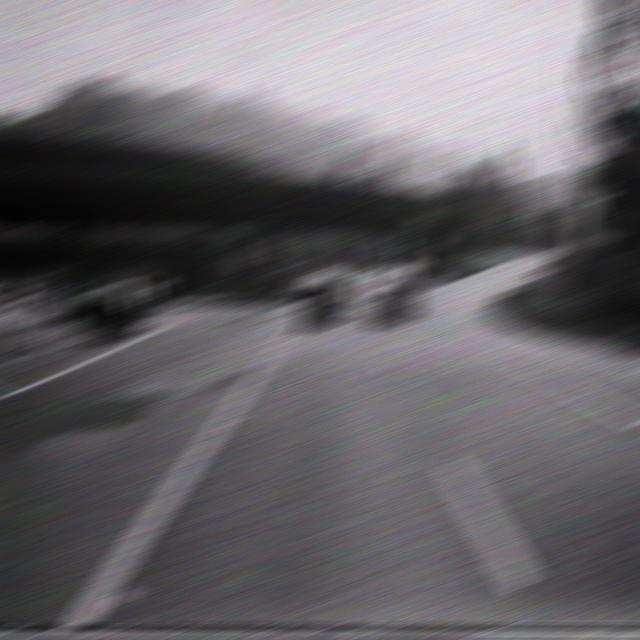speedLimit40: (548, 206, 580, 256)
